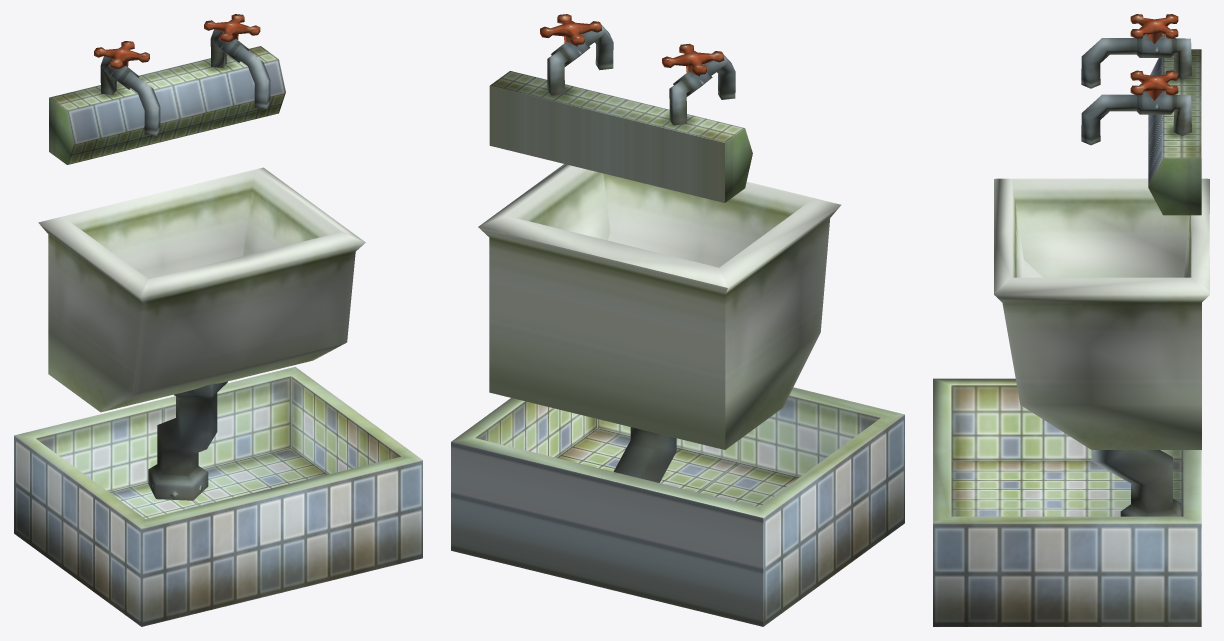
Rendered from a_SWIwater03.glb.
The picture shows the model from 3 angles, left to right: view 1: azimuth 30°, elevation 25°; view 2: azimuth 150°, elevation 25°; view 3: azimuth 270°, elevation 25°; orthographic projection. The views are drawn at different scales.
Visible parts, largest first — view 1: a_SWIwater03; view 2: a_SWIwater03; view 3: a_SWIwater03.
Boxes of the visible parts, box(x1,y1,x2,y2) form: a_SWIwater03: box(14, 14, 422, 626); a_SWIwater03: box(451, 14, 904, 626); a_SWIwater03: box(933, 14, 1209, 626).
Size of the model in its own units: 0.8899 by 1.44 by 0.7195.
Materials: 1 (1 with a texture image).
